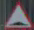Speed Breaker ahead: (2, 1, 33, 28)
